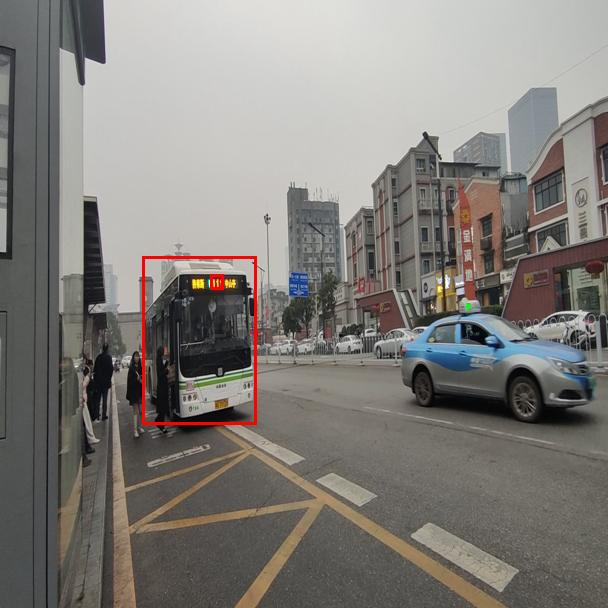bus: (142, 256, 256, 424)
screen: (210, 274, 223, 289)
